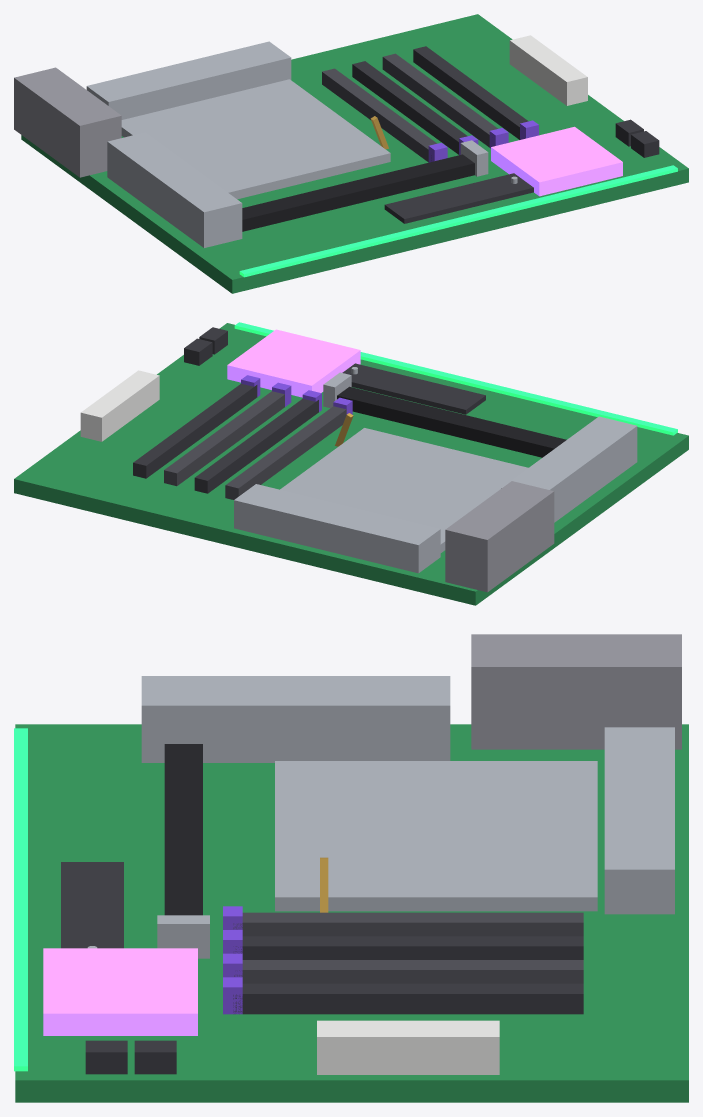
The model's file is mobo.glb.
The picture shows the model from 3 angles, top to bottom: view 1: azimuth 30°, elevation 25°; view 2: azimuth 150°, elevation 25°; view 3: azimuth 270°, elevation 25°; orthographic projection. The views are drawn at different scales.
Parts seen in each view (by area): view 1: world; view 2: world; view 3: world.
Boxes of the visible parts, x1,y1,x2,y2 form: world: [14, 14, 688, 293]; world: [14, 322, 688, 605]; world: [14, 634, 688, 1102].
Size of the model in its own units: 12.25 by 1.65 by 9.62.
